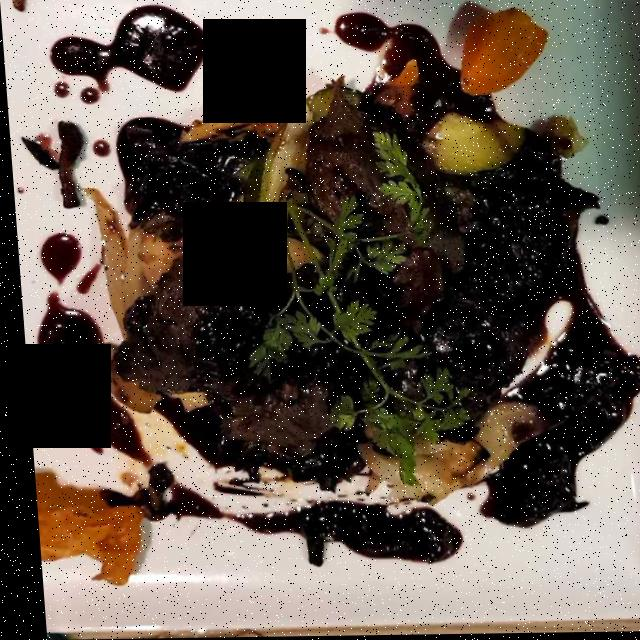beef-filet: (106, 244, 271, 393)
carrot-raw: (450, 1, 552, 94)
